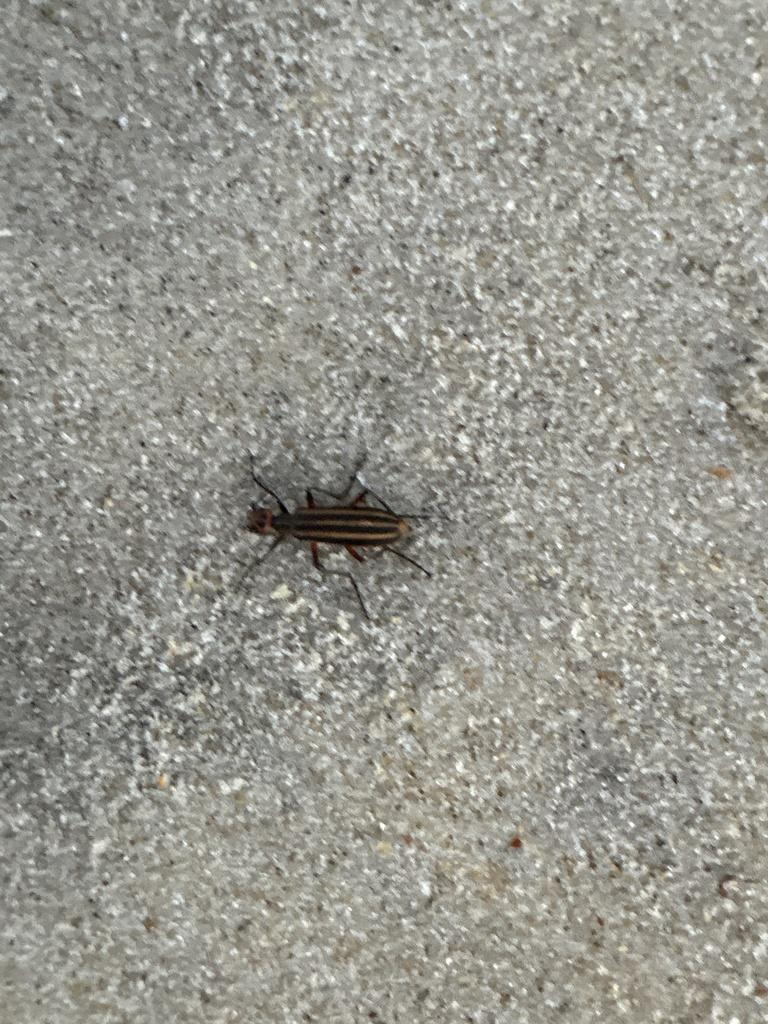blister_beetle: (174, 429, 472, 643)
